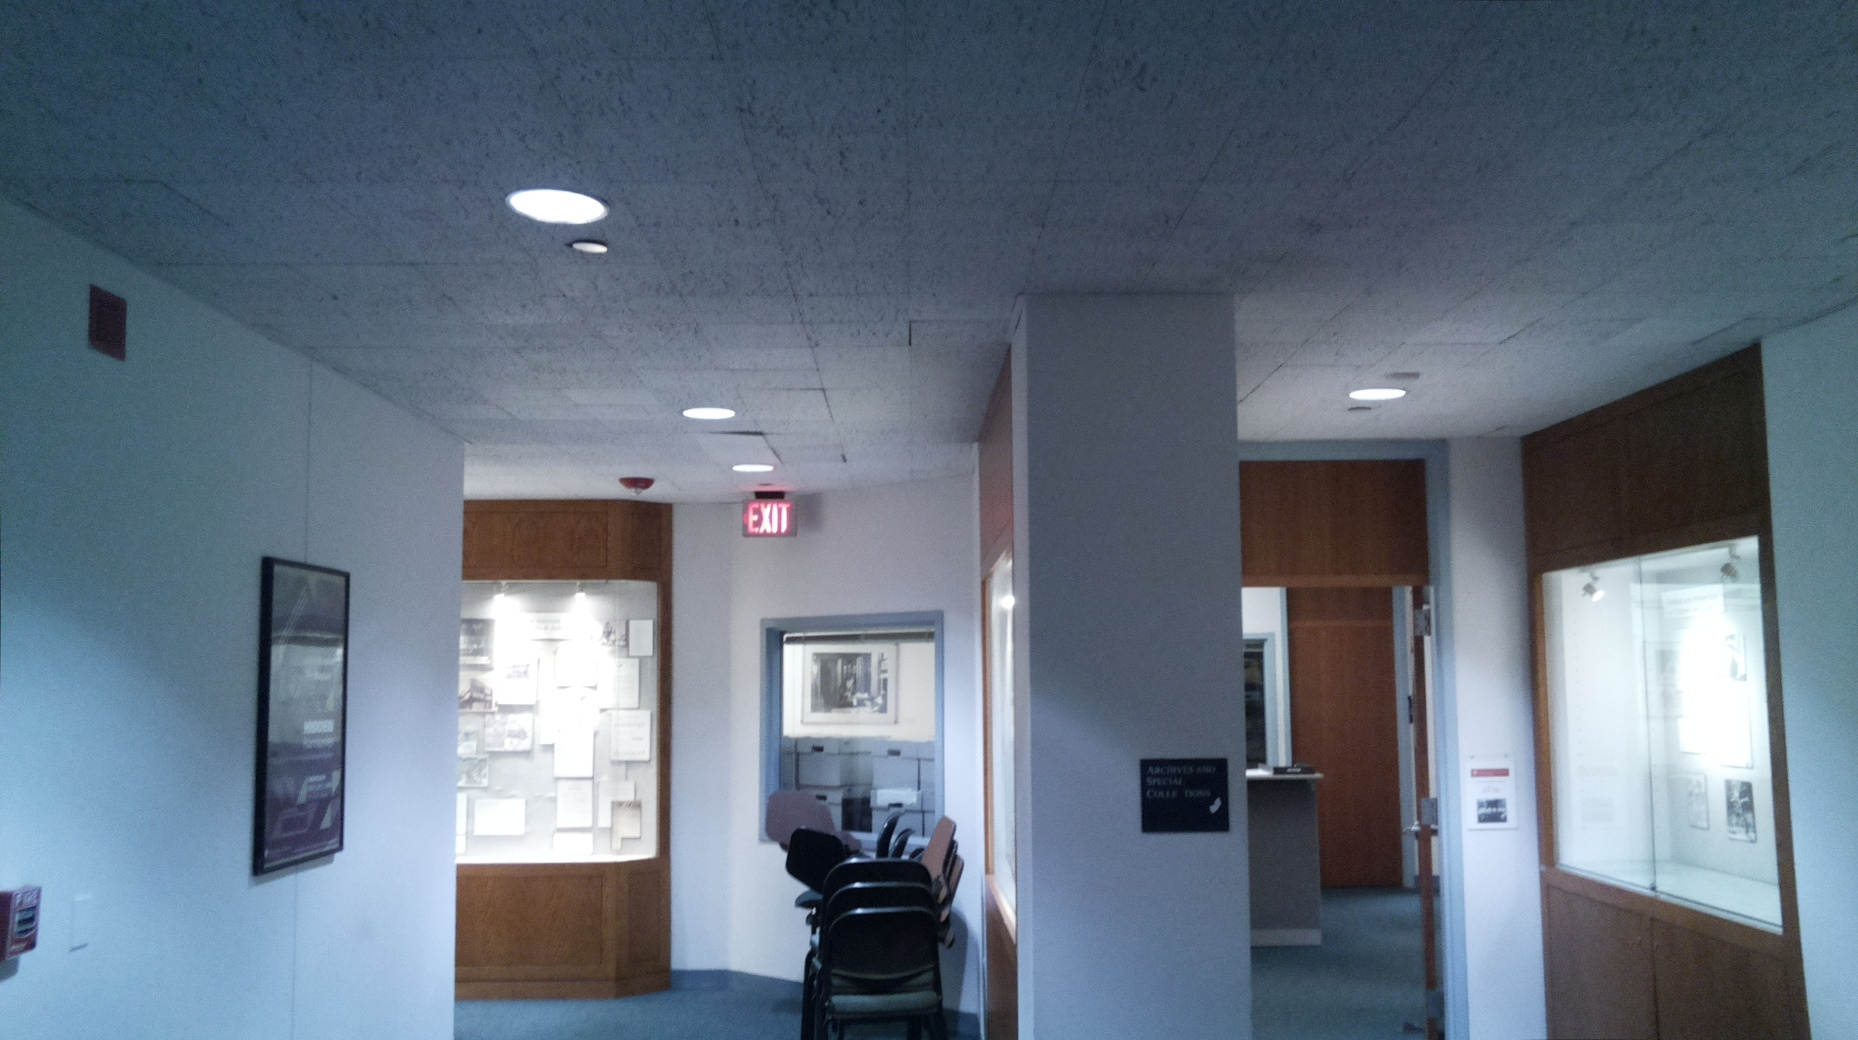exit sign: (739, 496, 803, 542)
